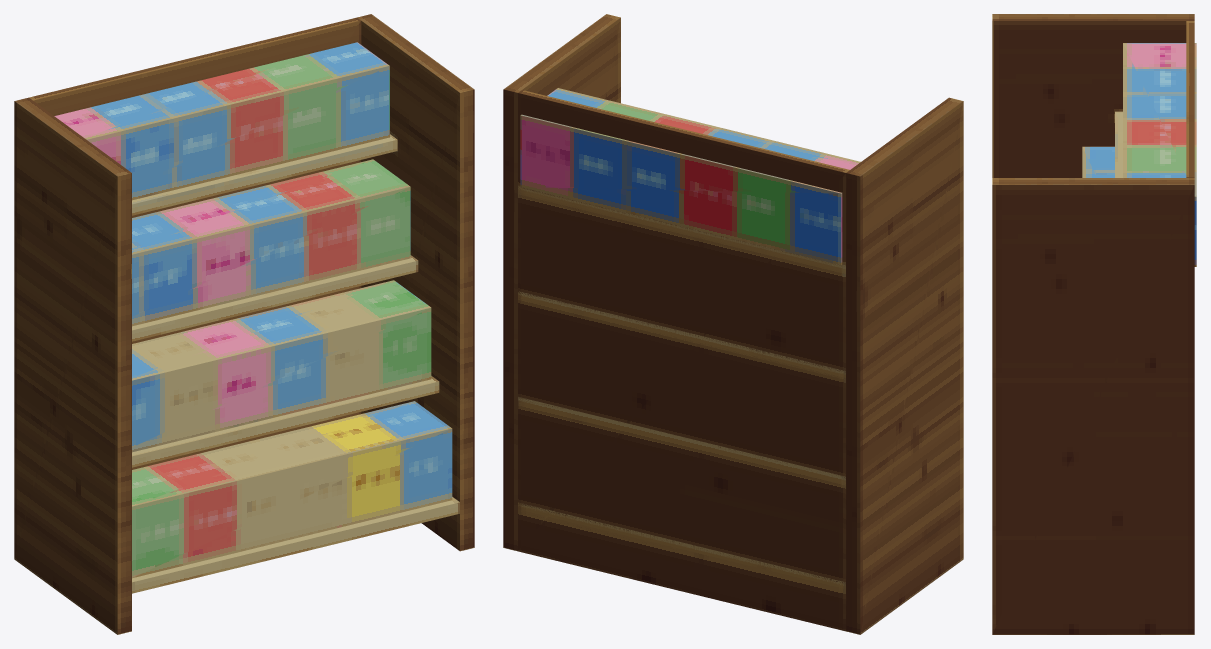
File: dagashirack.glb
3 renders of one model, left to right at view 1: azimuth 30°, elevation 25°; view 2: azimuth 150°, elevation 25°; view 3: azimuth 270°, elevation 25°, orthographic.
Visible parts, largest first — view 1: mesh; view 2: mesh; view 3: mesh.
Part boxes in pixels (<box>): mesh: <box>14,14,474,634</box>; mesh: <box>503,14,963,634</box>; mesh: <box>992,14,1196,634</box>.
Bounding box in the file's own units: 0.99 × 1.22 × 0.5.
1 material, 1 textured.
